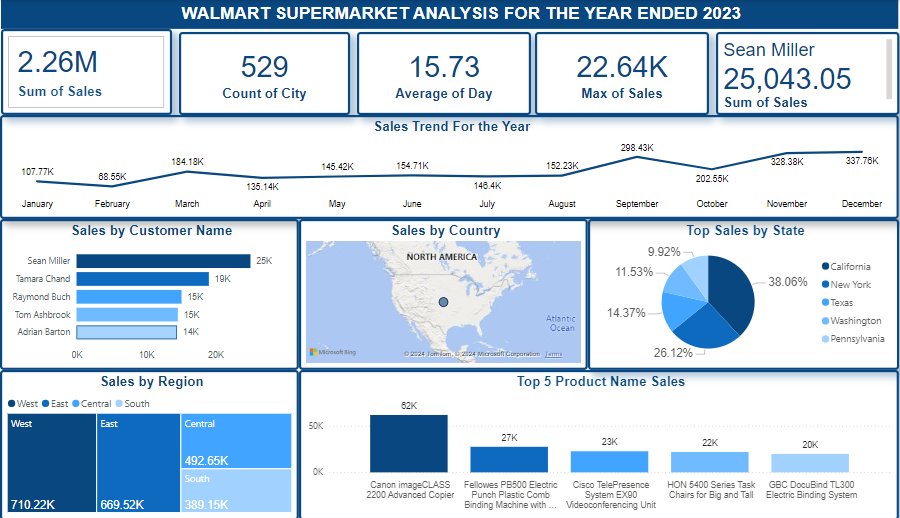

The dashboard page shown, as its layout file describes it:
{"tool":"powerbi","page":{"name":"Page 1","canvas":[1280,720],"ordinal":0},"visuals":[{"type":"lineChart","title":"Sales Trend For the Year","fields":{"Category":["train.Ship Date.Variation.Date Hierarchy.Month"],"Y":["train.Sales"]},"box":[15.2,159.3,1245.4,144.1],"z":0},{"type":"textbox","box":[17.3,0,1243.4,39.9],"z":1000},{"type":"barChart","title":"Sales by Customer Name","fields":{"Category":["train.Customer Name"],"Y":["train.Sales"]},"box":[15.2,303.4,414.2,209.2],"z":2000},{"type":"treemap","title":"Sales by Region","fields":{"Group":["train.Region"],"Values":["train.Sales"]},"box":[15.2,512.6,414.2,207.8],"z":2001},{"type":"map","title":"Sales by Country","fields":{"Size":["train.Sales"],"Category":["train.Country"]},"box":[429.4,303.4,400.3,209.2],"z":2002},{"type":"cardVisual","fields":{"Data":["train.Sales"]},"box":[16.6,40.2,236.9,119.1],"z":2003},{"type":"card","fields":{"Values":["train.City"]},"box":[263.2,44.3,236.9,115],"z":2004},{"type":"card","fields":{"Values":["train.Ship Date.Variation.Date Hierarchy.Day"]},"box":[509.8,44.3,241,115],"z":2005},{"type":"columnChart","title":"Top 5 Product Name Sales","fields":{"Category":["train.Product Name"],"Y":["train.Sales"]},"box":[429.4,512.6,831.2,207.8],"z":2006},{"type":"pieChart","title":" Top Sales by State","fields":{"Y":["train.Sales"],"Category":["train.State"]},"box":[829.8,303.4,430.8,209.2],"z":2007},{"type":"card","fields":{"Values":["train.Sales"]},"box":[756.4,44.3,241,115],"z":2008},{"type":"multiRowCard","fields":{"Values":["train.Sales","train.Customer Name"]},"box":[1007.1,44.3,253.5,115],"z":2009}]}

Visuals, with their boxes in screenshot pixels (x1, y1, x2, y2), scaled from the page's 1280x720 canvas onto the 900x518 screenshot:
"Sales Trend For the Year" lineChart: x1=11 y1=115 x2=886 y2=218
textbox: x1=12 y1=0 x2=886 y2=29
"Sales by Customer Name" barChart: x1=11 y1=218 x2=302 y2=369
"Sales by Region" treemap: x1=11 y1=369 x2=302 y2=517
"Sales by Country" map: x1=302 y1=218 x2=583 y2=369
cardVisual - train.Sales: x1=12 y1=29 x2=178 y2=115
card - train.City: x1=185 y1=32 x2=352 y2=115
card - train.Ship Date.Variation.Date Hierarchy.Day: x1=358 y1=32 x2=528 y2=115
"Top 5 Product Name Sales" columnChart: x1=302 y1=369 x2=886 y2=517
" Top Sales by State" pieChart: x1=583 y1=218 x2=886 y2=369
card - train.Sales: x1=532 y1=32 x2=701 y2=115
multiRowCard - train.Sales x train.Customer Name: x1=708 y1=32 x2=886 y2=115
